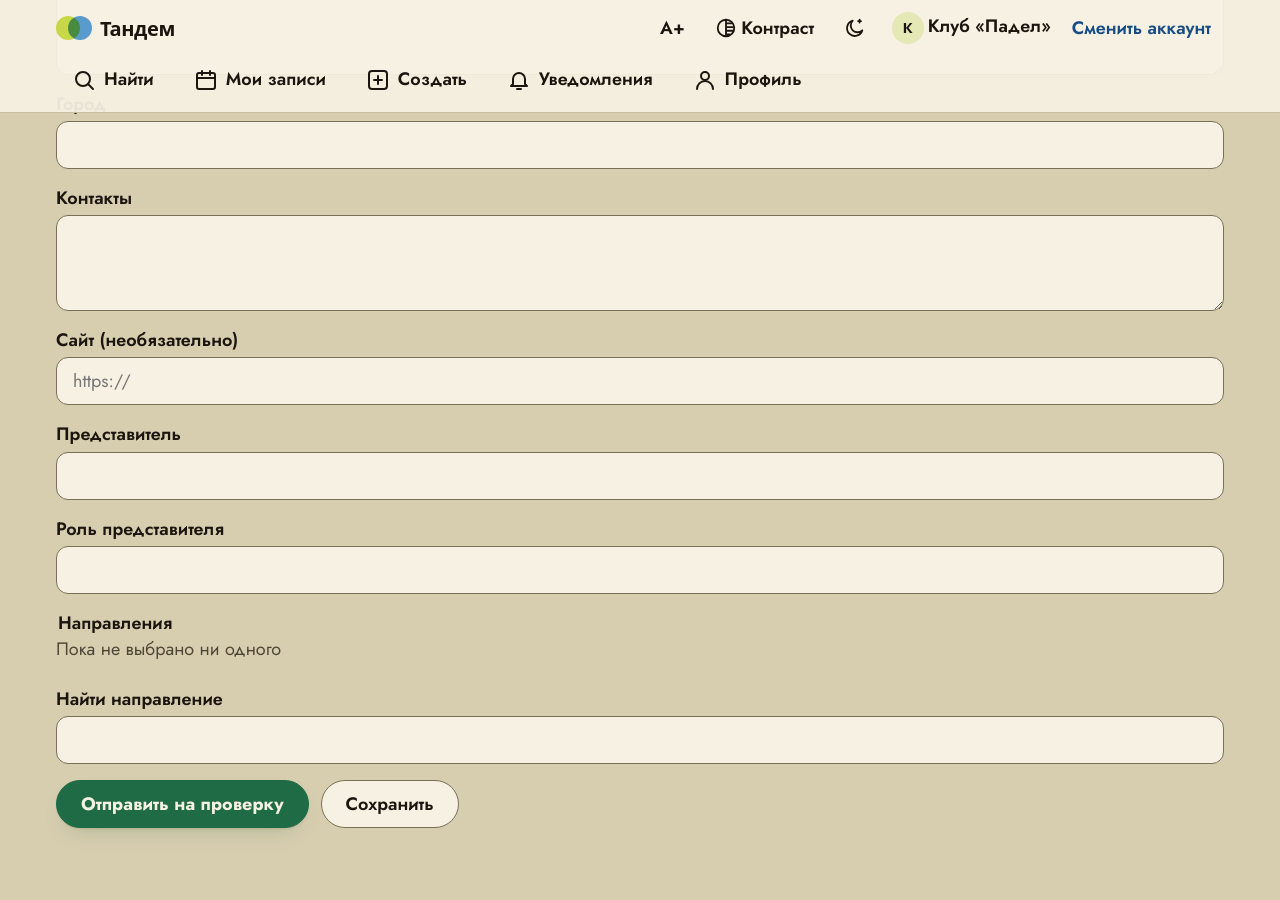
Test: своя организация: /organization › незаполненные поля — ошибки у полей из ответа api
The image size is (1280, 900).
(page scrolled)
Click the button "Отправить на проверку" at (182, 804), box x1=56 y1=780 x2=309 y2=828
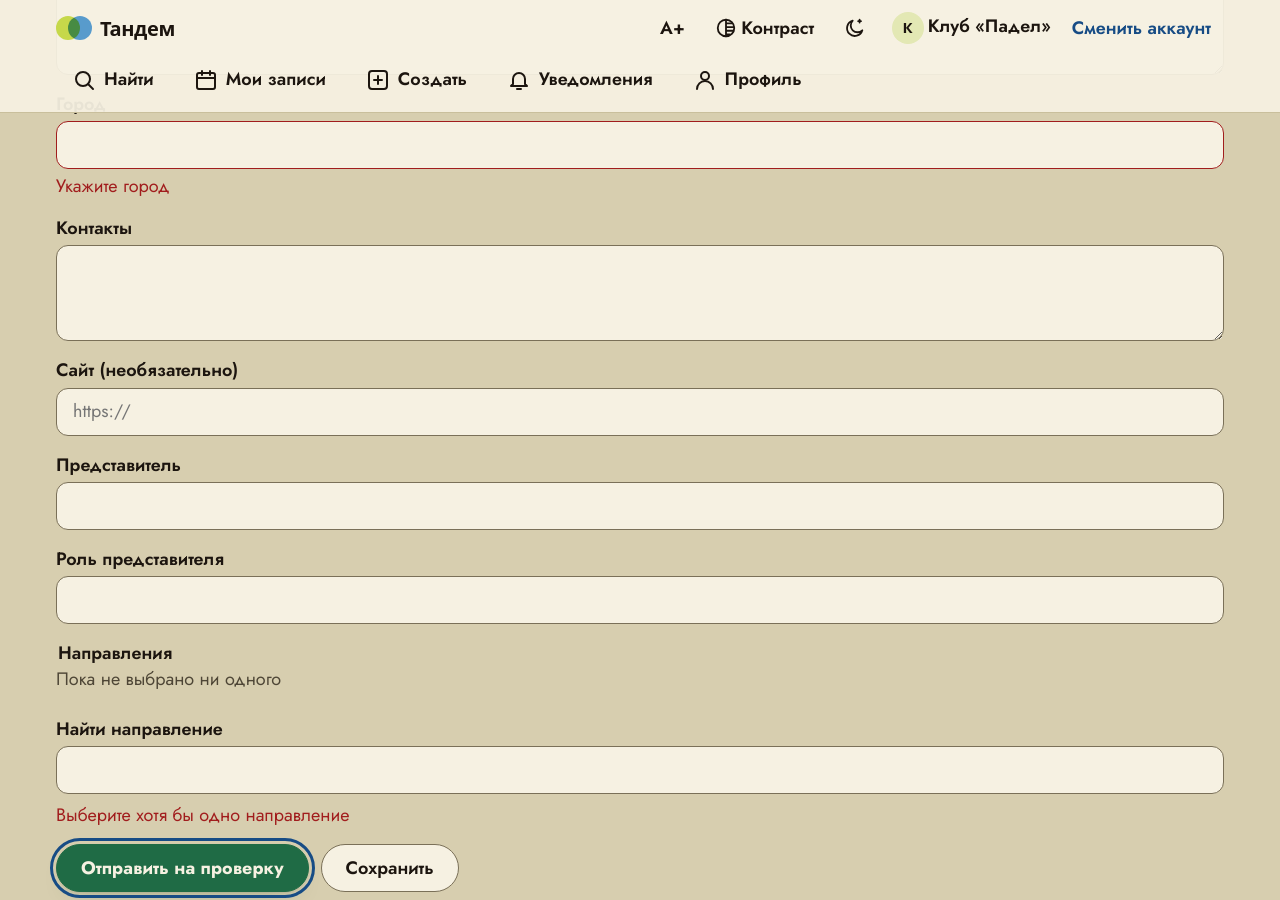
Now the text "Укажите город" is shown, box x1=56 y1=173 x2=169 y2=199
Now the text "Выберите хотя бы одно направление" is shown, box x1=56 y1=802 x2=350 y2=828
